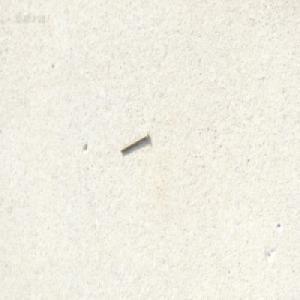Bolt: (119, 130, 148, 153)
